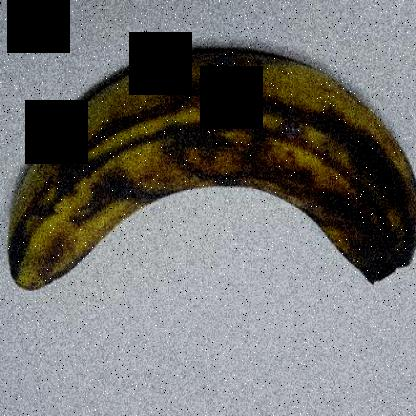overripe: (1, 34, 415, 299)
rotten: (317, 141, 415, 293)
